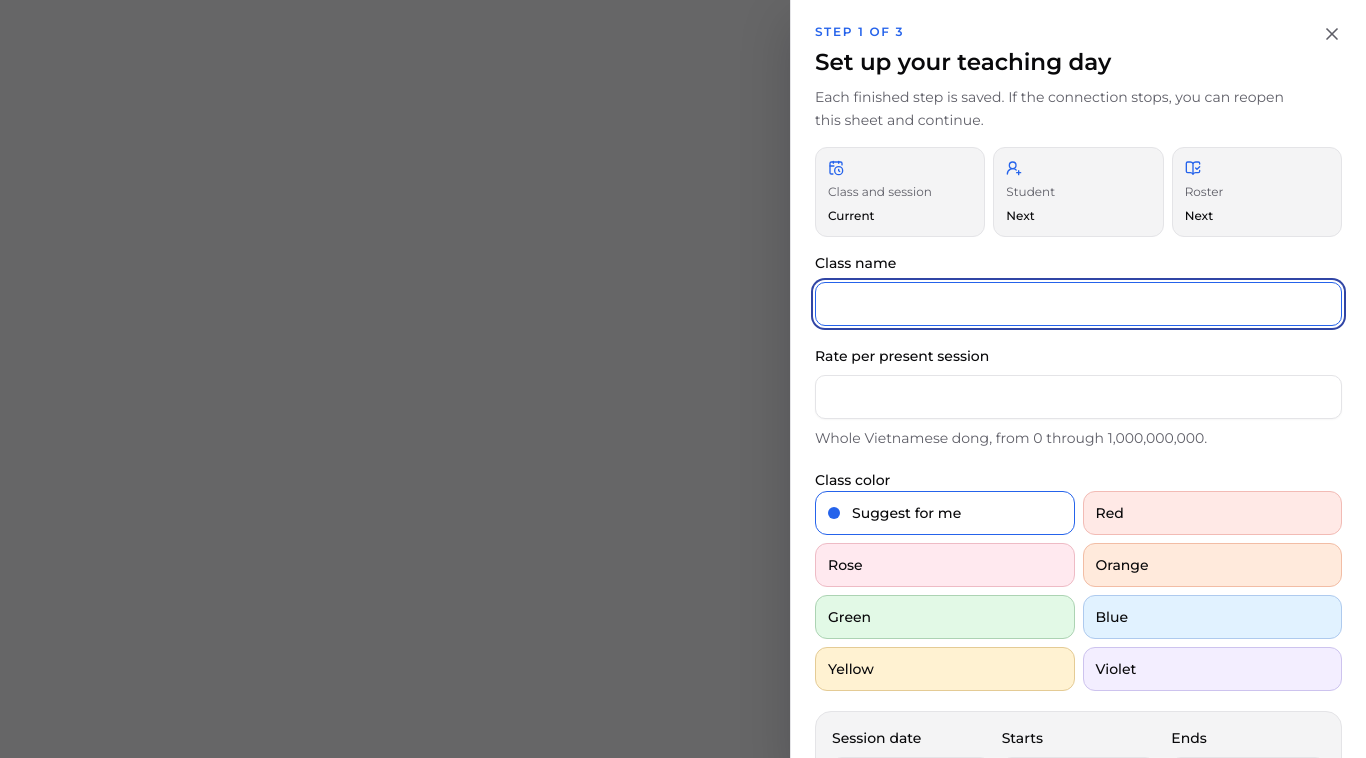
it: TeachingSetupSheet › keeps the step and command key available after a failed save
The image size is (1366, 758).
Step 1. Type "Maths 9A" into the field labelled "Class name" → (1078, 304), box [815,282,1342,326]
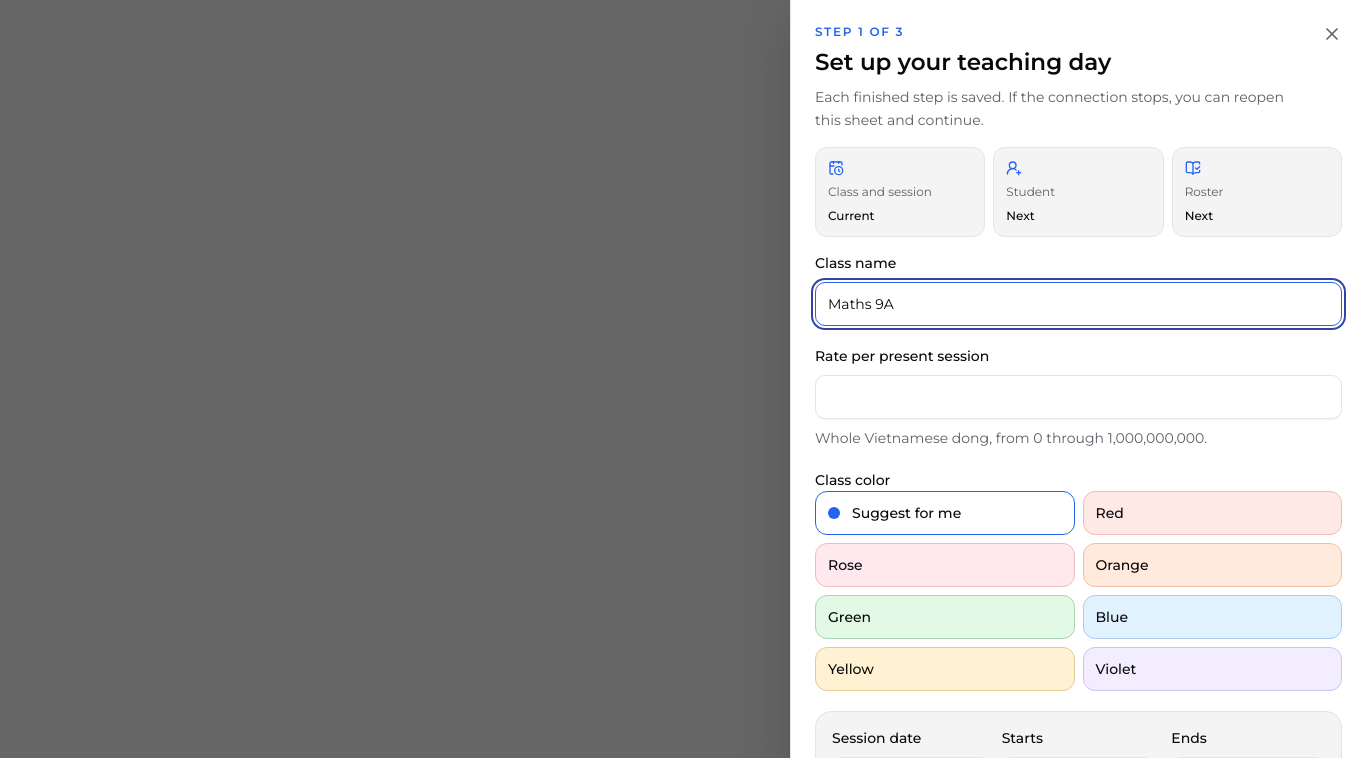
Step 2. Type "250000" into the field labelled "Rate per present session" → (1078, 398), box [815,376,1342,420]
(page scrolled)
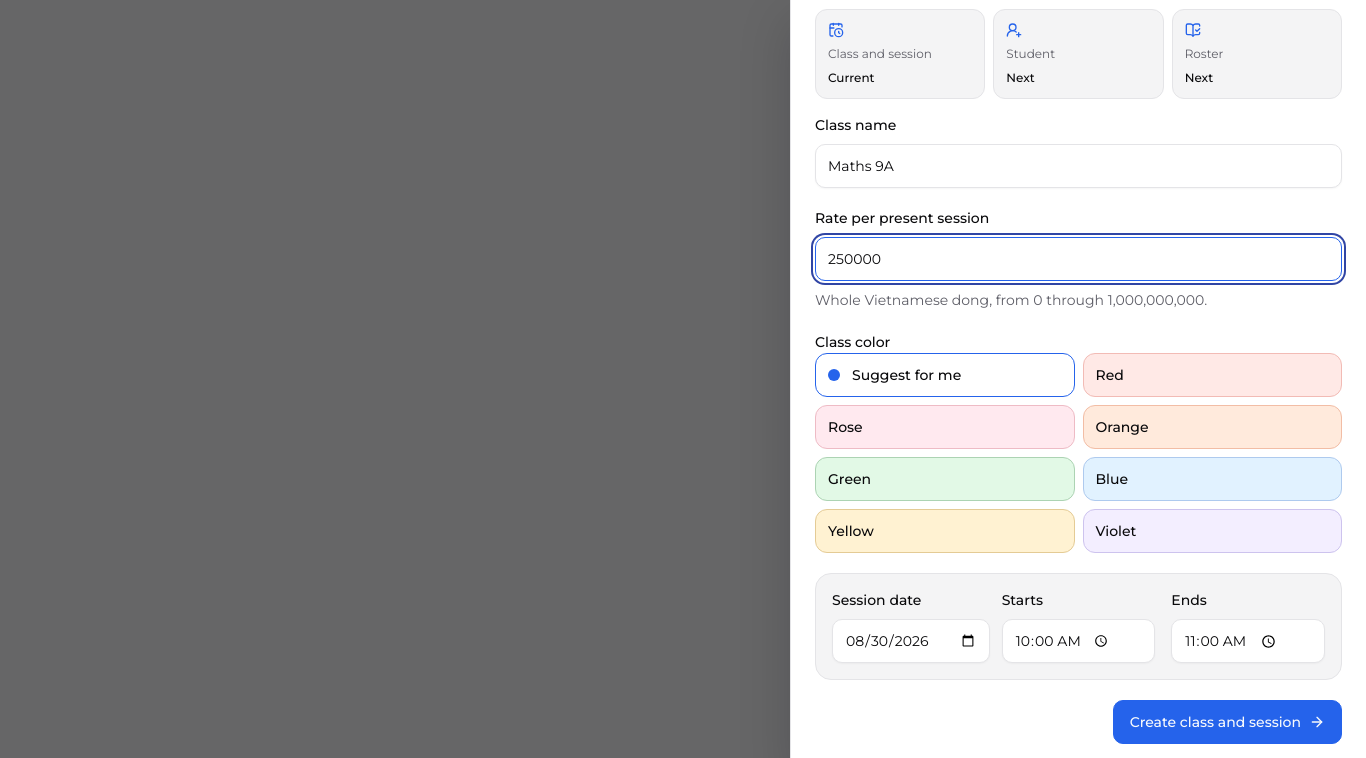
Step 3. Click the button "Create class and session" → (1227, 722), box [1113,700,1342,744]
(page scrolled)
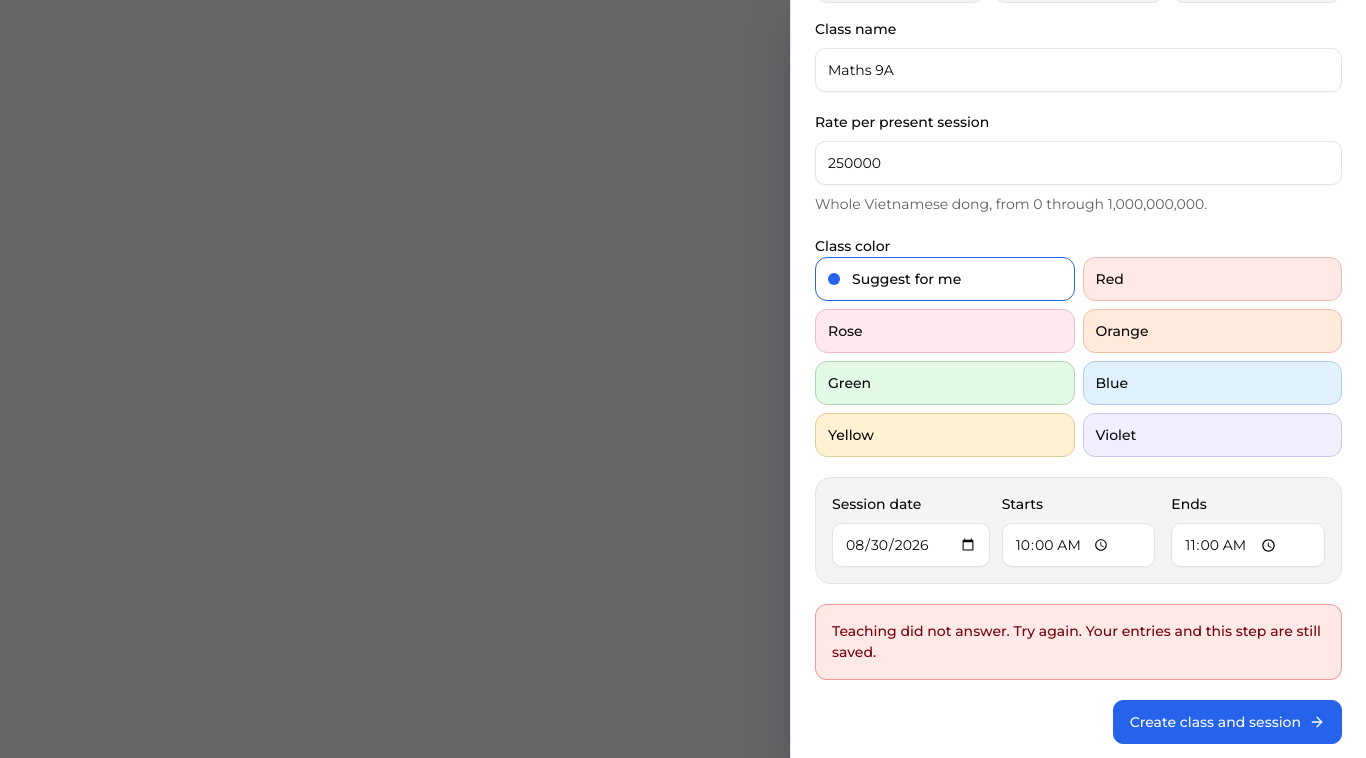
expect the message reads "Teaching did not answer. Try again. Your entries and this step are still saved.": met, box [815,604,1342,680]
Step 4. Click the button "Create class and session" → (1227, 722), box [1113,700,1342,744]
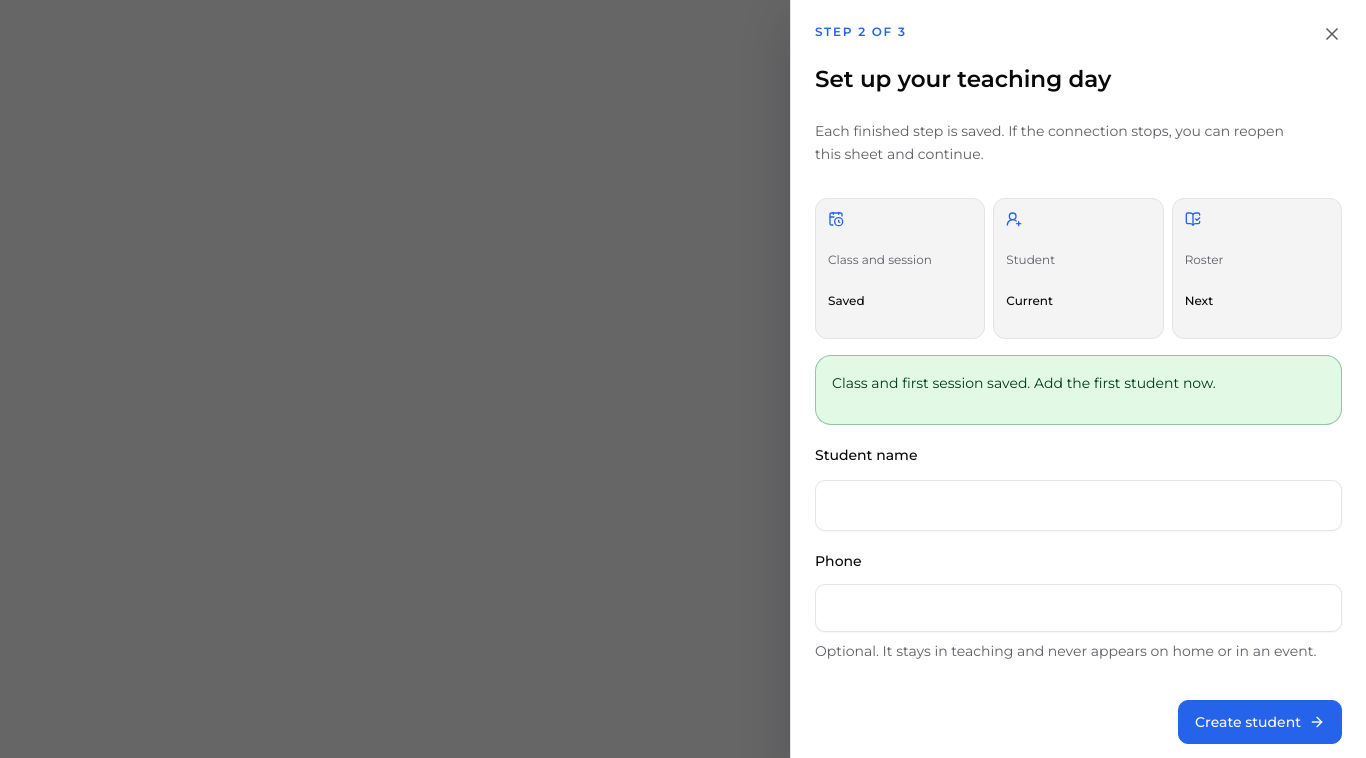
expect the text "Step 2 of 3" is shown: met, box [815,24,907,39]
